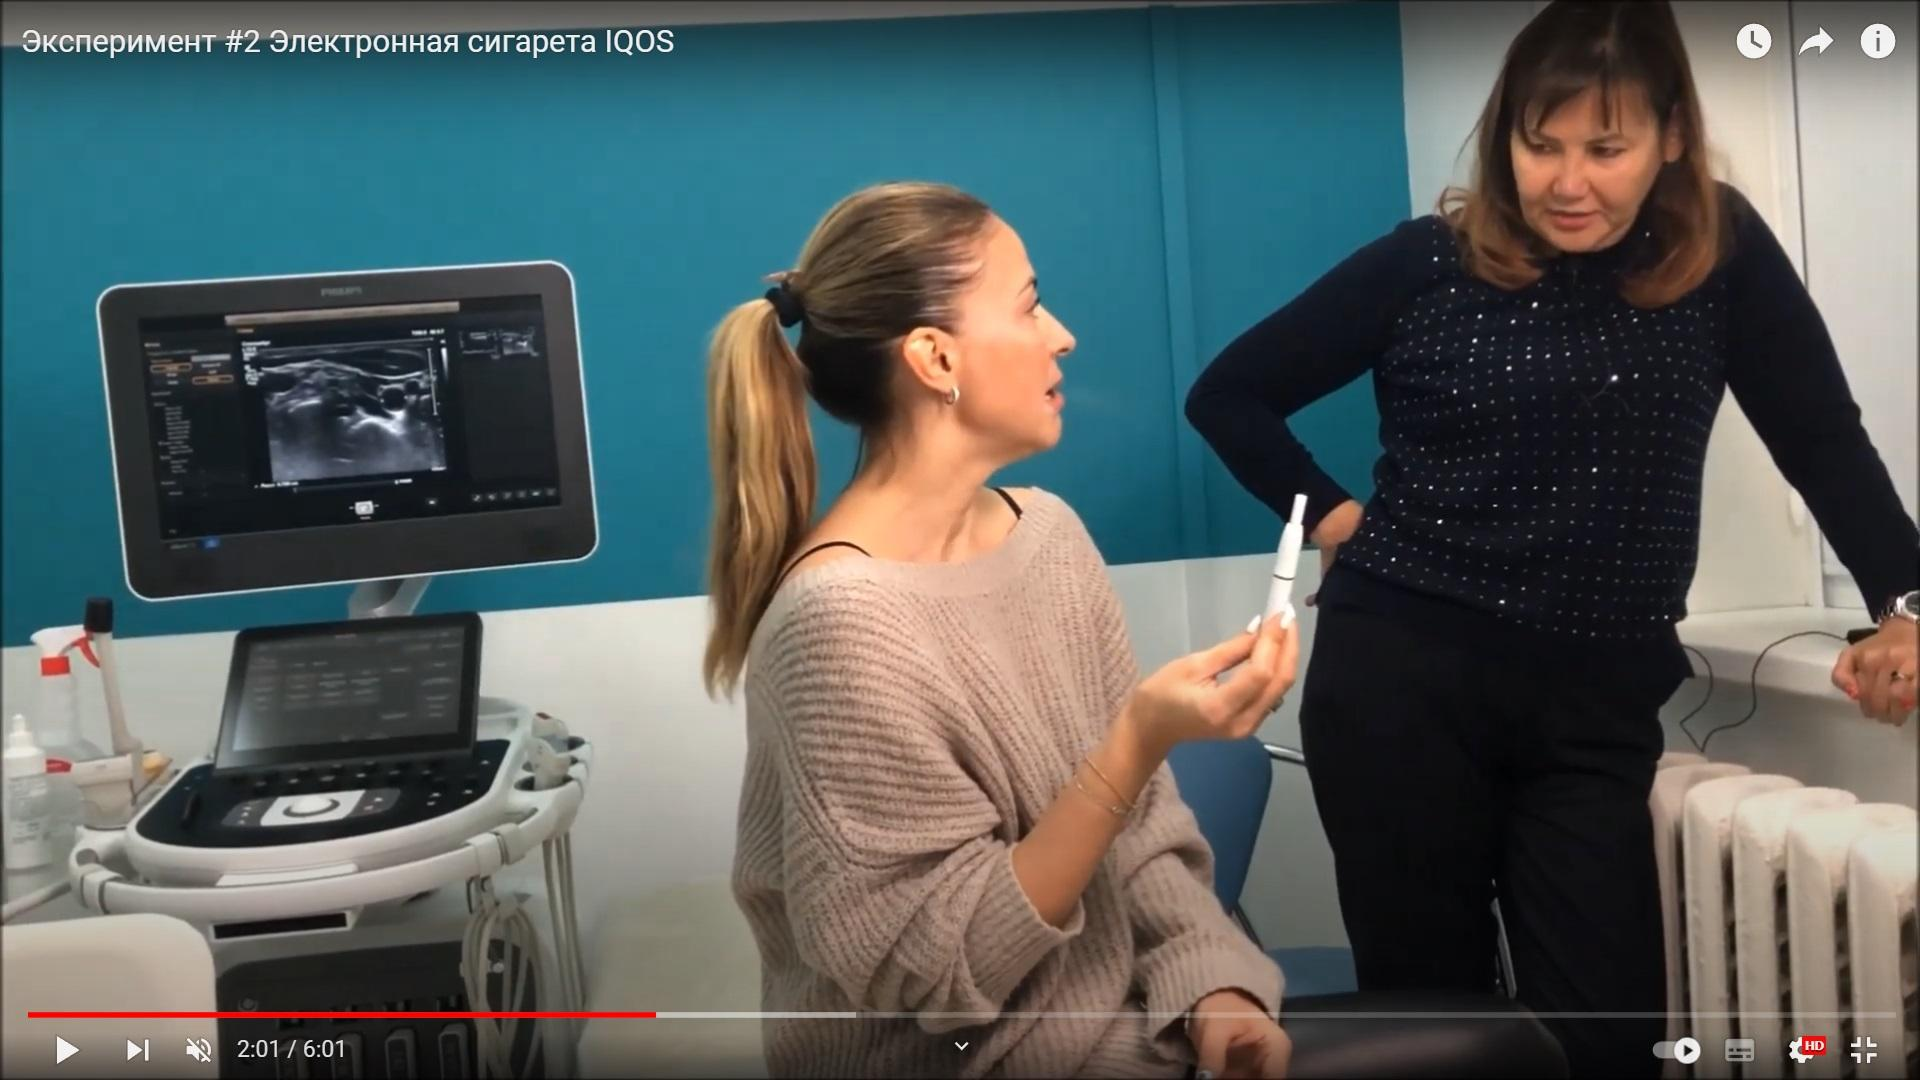iqos: (1263, 493, 1308, 622)
